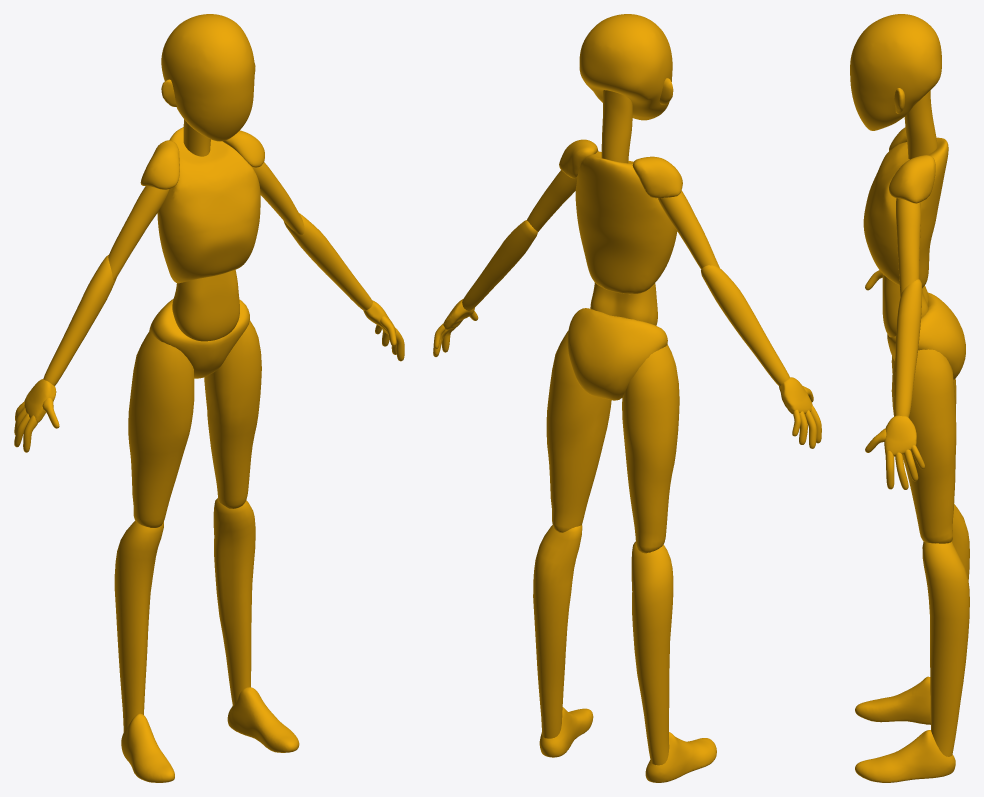
The model's file is BaseMesh.fbx.
3 renders of one model, left to right at view 1: azimuth 30°, elevation 25°; view 2: azimuth 150°, elevation 25°; view 3: azimuth 270°, elevation 25°, orthographic.
Parts seen in each view (by area): view 1: PolySphere, PolySphere1, PM3D_Sphere3D6, PM3D_Sphere3D6_2, PM3D_Sphere3D6_1; view 2: PolySphere, PolySphere1, PM3D_Sphere3D6, PM3D_Sphere3D6_2, PM3D_Sphere3D6_1; view 3: PolySphere, PM3D_Sphere3D6, PolySphere1, PM3D_Sphere3D6_2, PM3D_Sphere3D6_1, PolySphere1_1.
Part boxes in pixels (x1,y1,x2,y2): PolySphere: (114,14,261,732); PolySphere1: (43,162,372,385); PM3D_Sphere3D6: (121,687,299,782); PM3D_Sphere3D6_2: (14,300,404,452); PM3D_Sphere3D6_1: (140,130,264,189); PolySphere: (533,14,679,765); PolySphere1: (462,170,789,385); PM3D_Sphere3D6: (539,707,716,782); PM3D_Sphere3D6_2: (433,299,821,448); PM3D_Sphere3D6_1: (559,139,682,198); PolySphere: (850,14,969,756); PM3D_Sphere3D6: (855,676,955,782); PolySphere1: (894,198,921,417); PM3D_Sphere3D6_2: (865,270,924,489); PM3D_Sphere3D6_1: (889,127,935,203); PolySphere1_1: (894,88,905,113).
Size of the model in its own units: 272 by 498 by 74.31.
